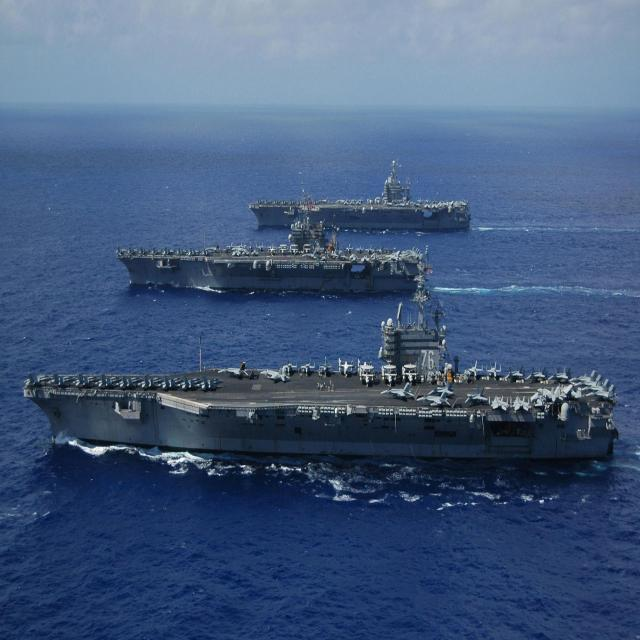navalvessels: (18, 281, 620, 468), (115, 220, 425, 296), (243, 167, 477, 235)
